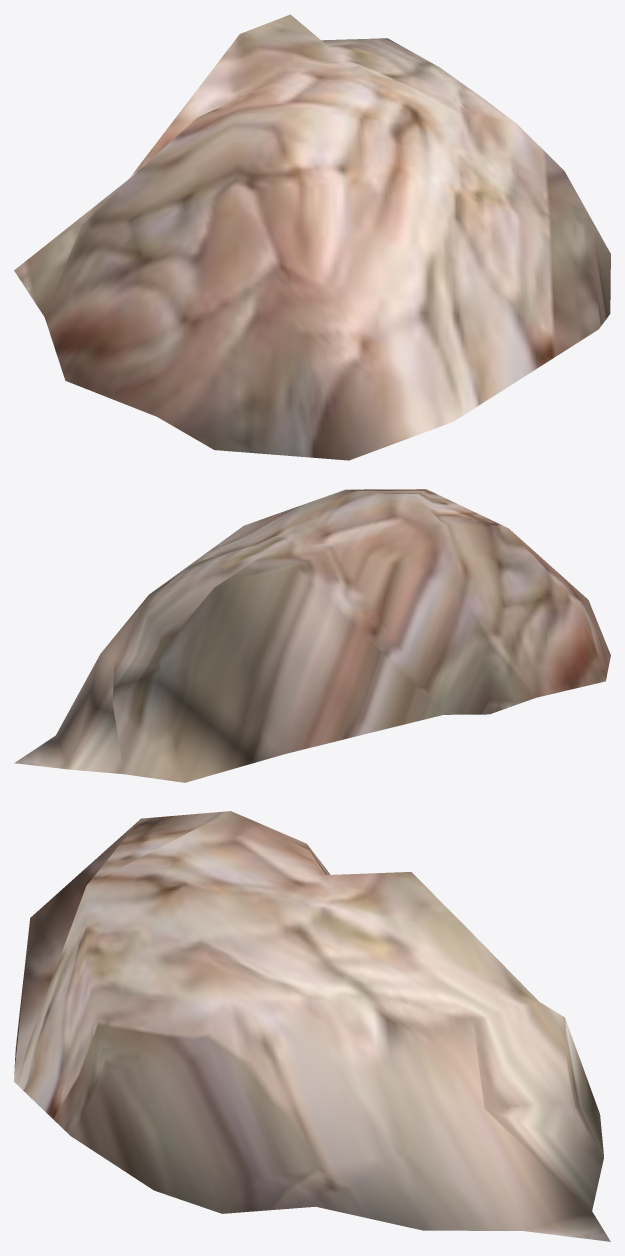
The model's file is intestines.glb.
3 views of the same model, one above another, from view 1: azimuth 30°, elevation 25°; view 2: azimuth 150°, elevation 25°; view 3: azimuth 270°, elevation 25° (orthographic). The views are drawn at different scales.
Visible parts, largest first — view 1: sheep; view 2: sheep; view 3: sheep.
Part boxes in pixels (<box>): sheep: <box>14,14,610,460</box>; sheep: <box>14,489,610,782</box>; sheep: <box>14,811,610,1241</box>.
Size of the model in its own units: 9.96 by 4.6 by 9.5.
1 material, 1 textured.
